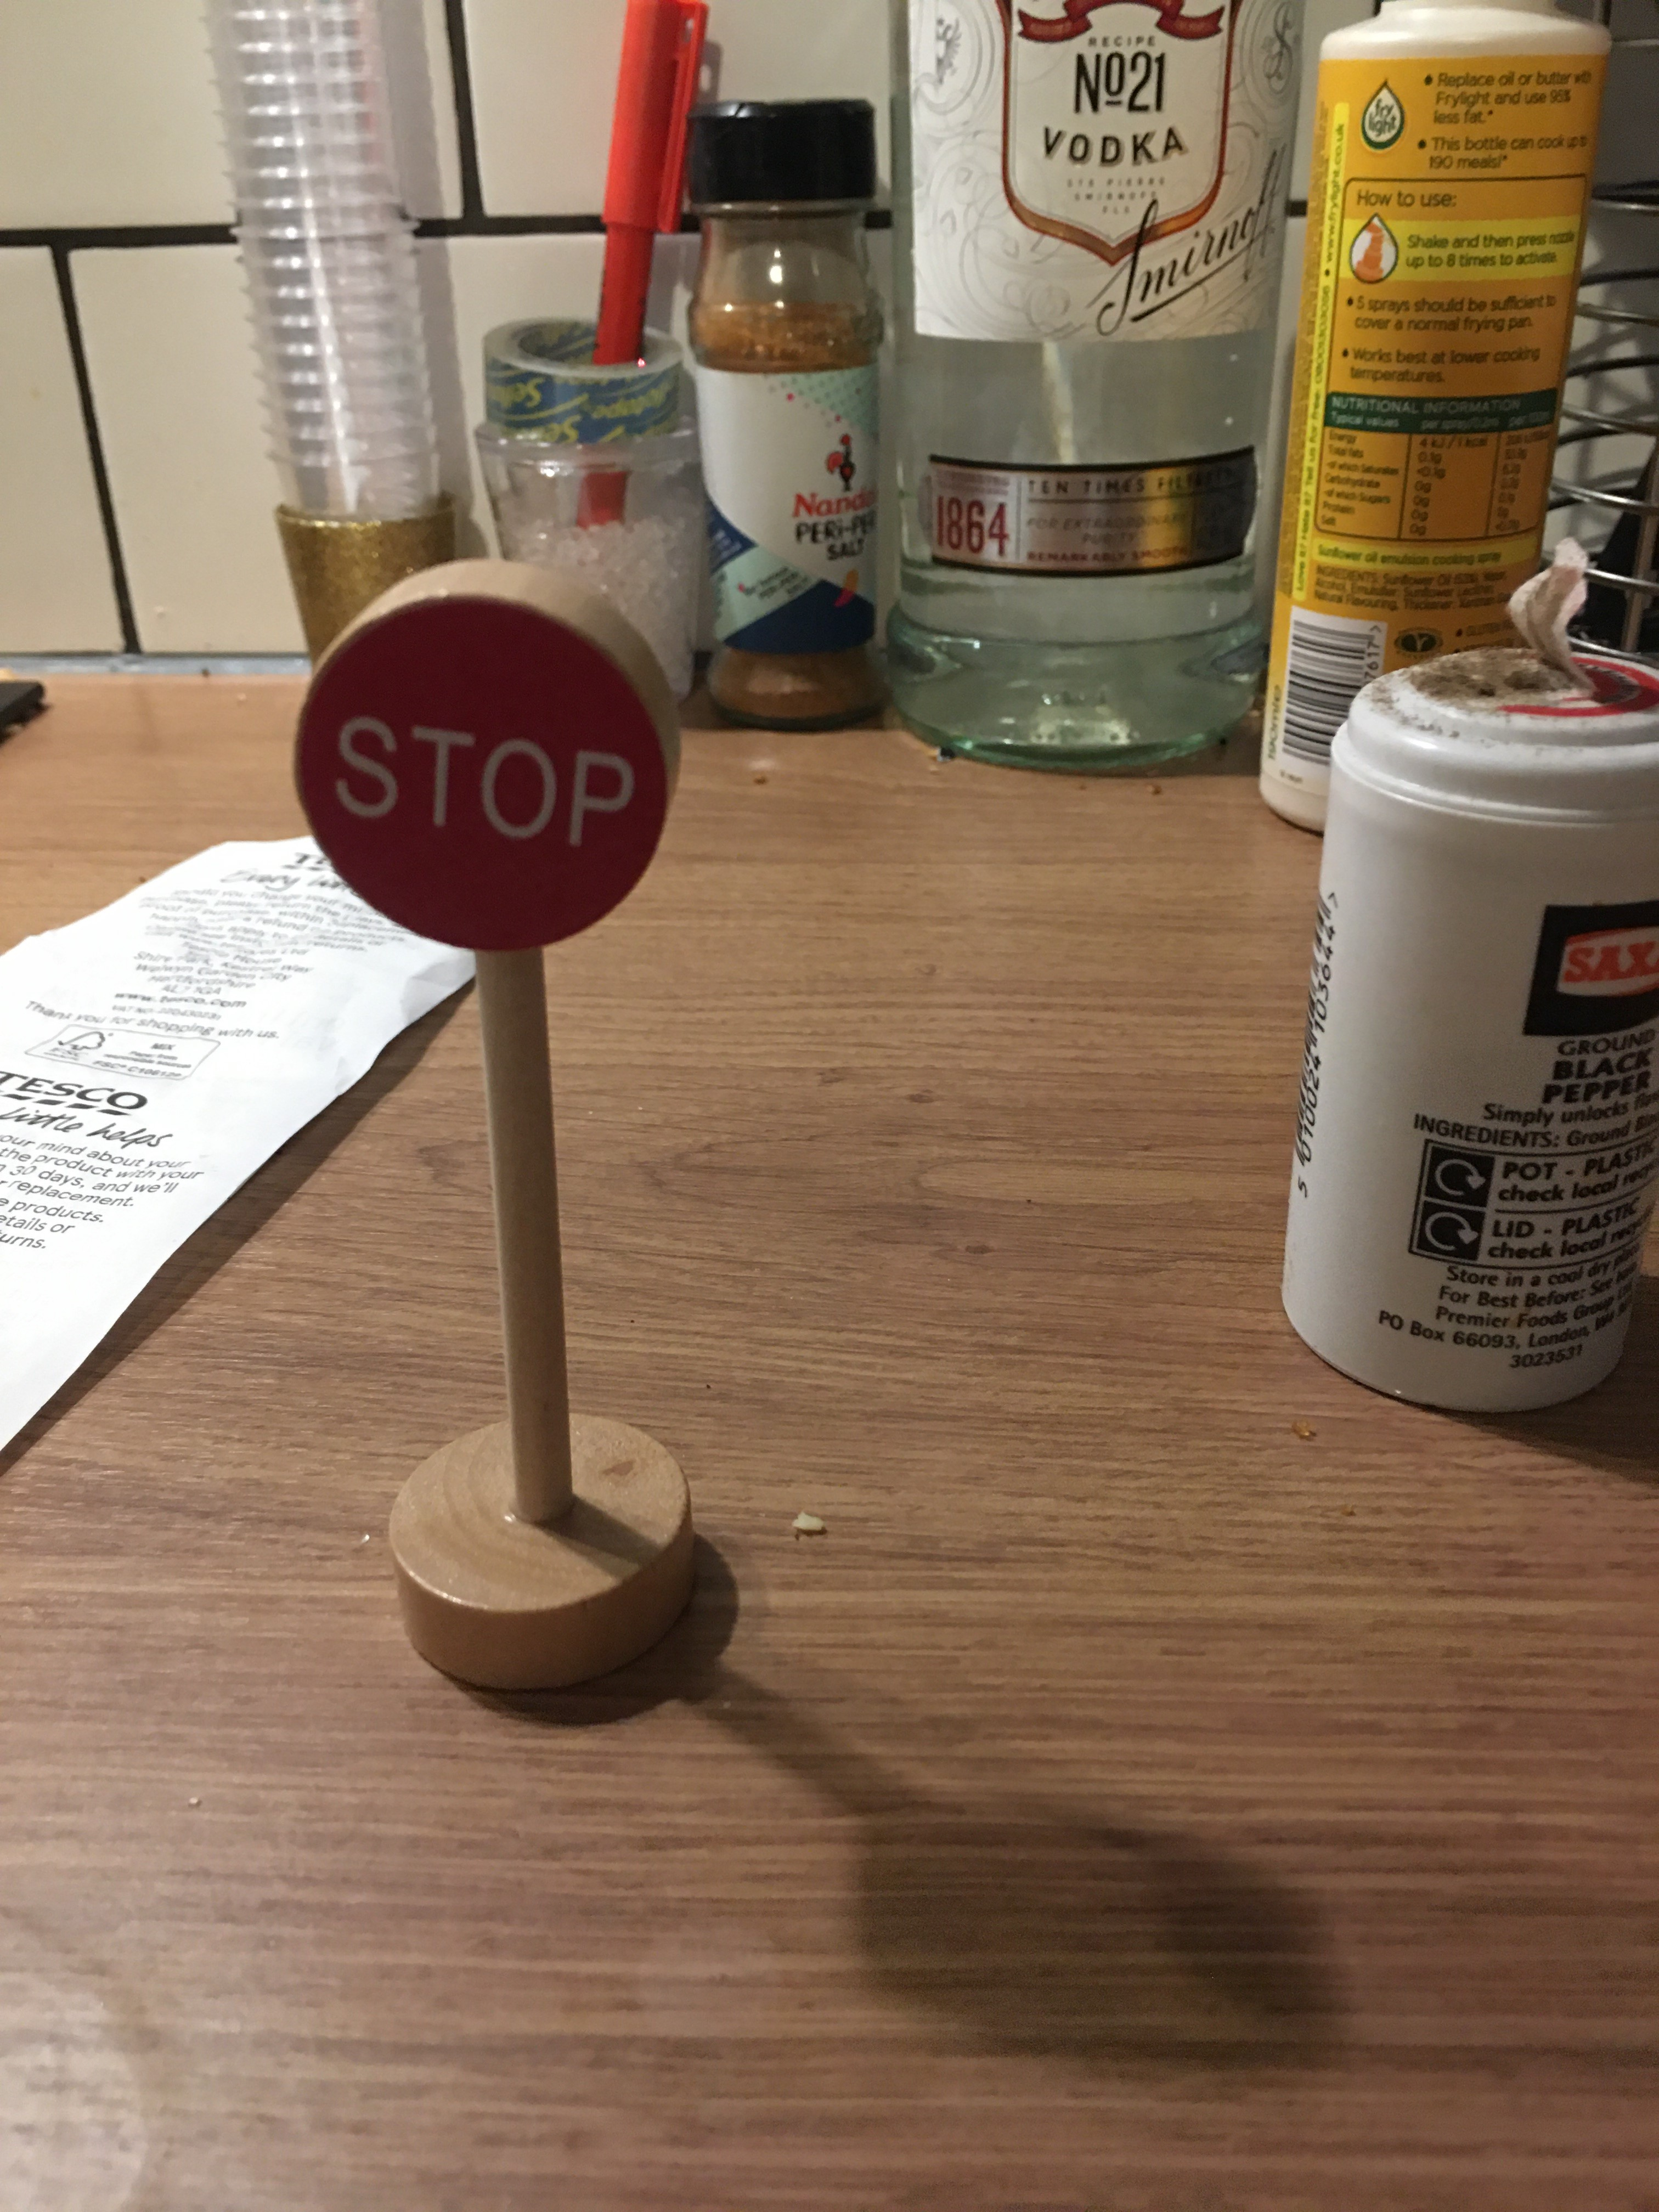Traffic_Sign_Stop: (291, 587, 685, 951)
